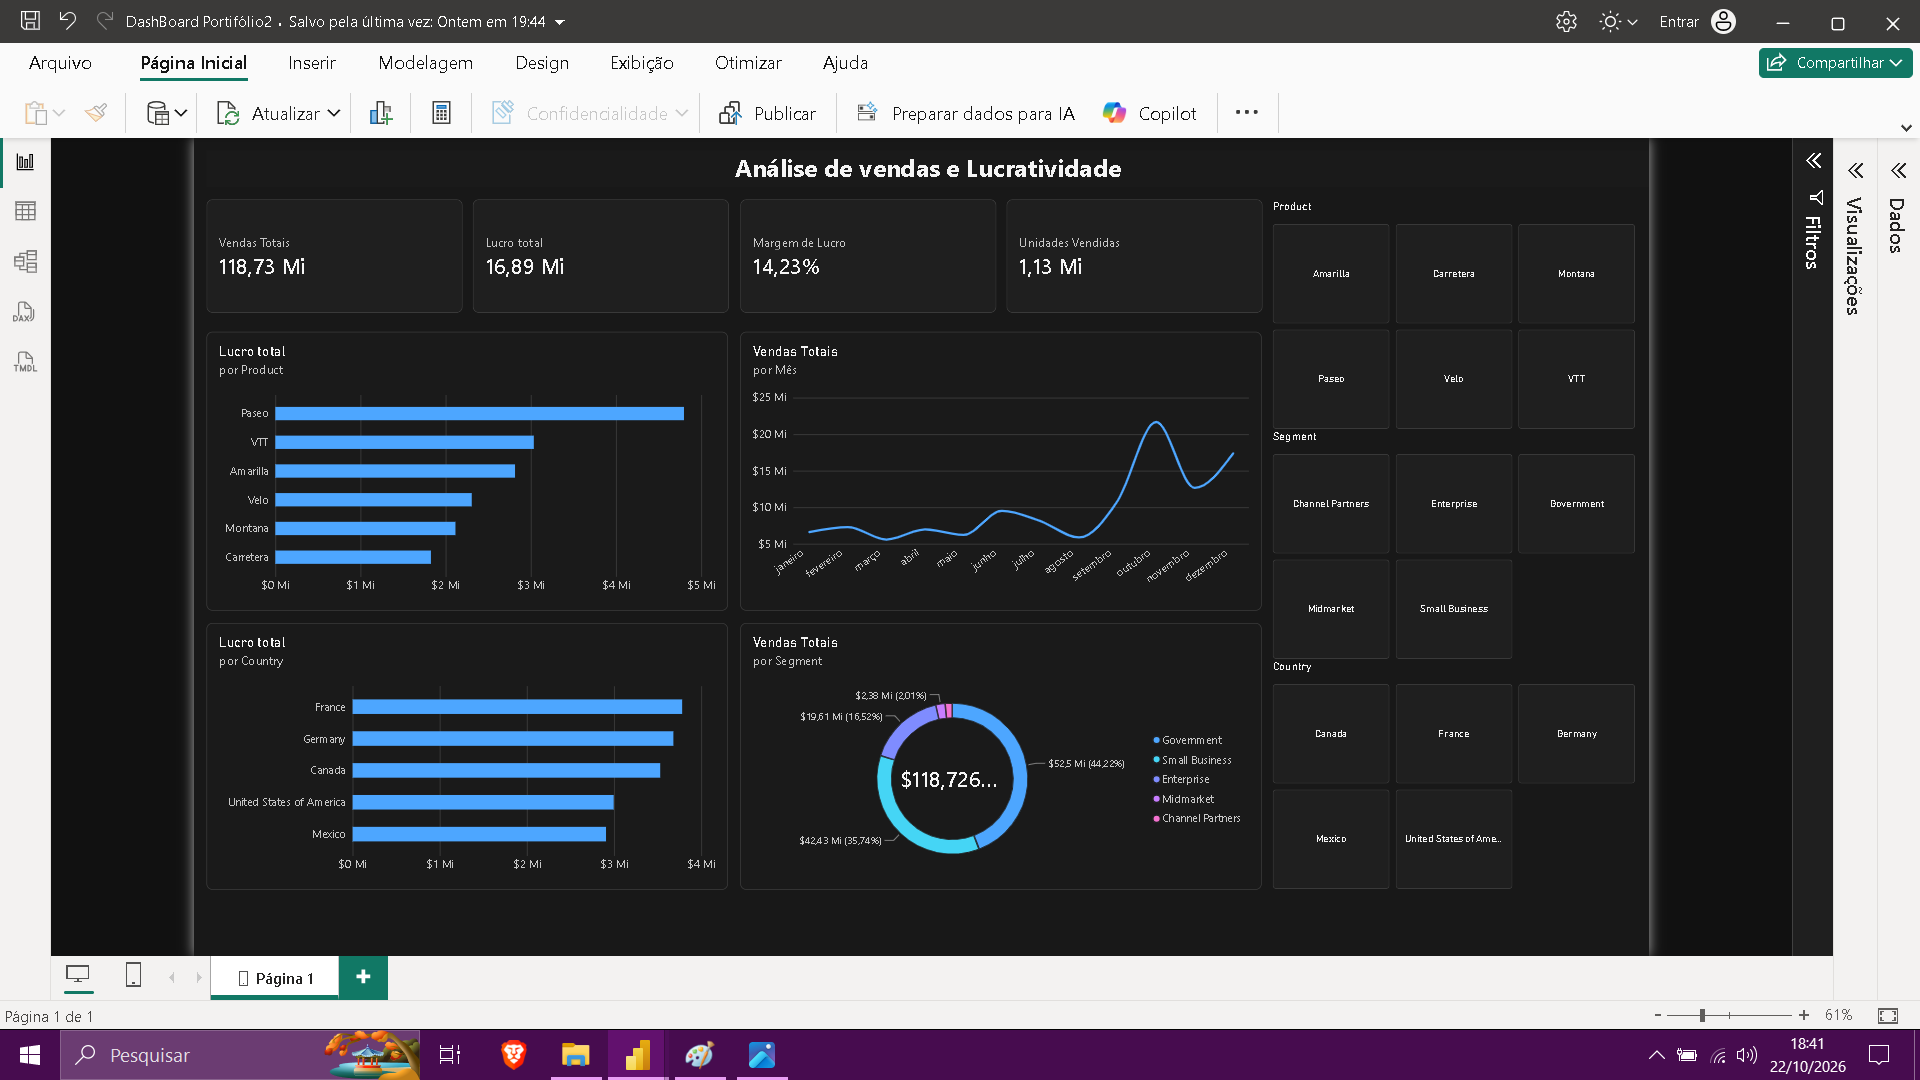

The page's visual inventory and layout, read from the dashboard file:
{"tool":"powerbi","page":{"name":"Página 1","canvas":[1920,1080],"ordinal":0},"visuals":[{"type":"textbox","box":[16,16,1904,48],"z":0},{"type":"cardVisual","fields":{"Data":["financials.Vendas Totais"]},"box":[16,80,338.5,150.3],"z":1000},{"type":"cardVisual","fields":{"Data":["financials.Lucro total"]},"box":[368,80,338.5,150.3],"z":2000},{"type":"cardVisual","fields":{"Data":["financials.Margem de Lucro"]},"box":[720,80,338.5,150.3],"z":3000},{"type":"cardVisual","fields":{"Data":["financials.Unidades Vendidas"]},"box":[1072,80,338.5,150.3],"z":4000},{"type":"lineChart","fields":{"Category":["financials.Date.Variação.Hierarquia de datas.Ano","financials.Date.Variação.Hierarquia de datas.Trimestre","financials.Date.Variação.Hierarquia de datas.Mês","financials.Date.Variação.Hierarquia de datas.Dia"],"Y":["financials.Vendas Totais"]},"box":[720,256,688,368],"z":5000},{"type":"clusteredBarChart","fields":{"Category":["financials.Product"],"Y":["financials.Lucro total"]},"box":[16,256,688,368],"z":6000},{"type":"donutChart","fields":{"Category":["financials.Segment"],"Y":["financials.Vendas Totais"]},"box":[720,640,688,352],"z":7000},{"type":"clusteredBarChart","fields":{"Category":["financials.Country"],"Y":["financials.Lucro total"]},"box":[16,640,688,352],"z":8000},{"type":"advancedSlicerVisual","fields":{"Values":["financials.Country"]},"box":[1424,688,480,304],"z":9000},{"type":"advancedSlicerVisual","fields":{"Values":["financials.Segment"]},"box":[1424,384,480,304],"z":10000},{"type":"advancedSlicerVisual","fields":{"Values":["financials.Product"]},"box":[1424,80,480,304],"z":11000}]}

Visuals, with their boxes on the page's 1920x1080 design canvas (x1, y1, x2, y2). These are canvas units, not pixel positions in the 1920x1080 screenshot, which may show the page scaled, cropped or inside an application window:
textbox: BBox(16, 16, 1920, 64)
cardVisual - financials.Vendas Totais: BBox(16, 80, 354, 230)
cardVisual - financials.Lucro total: BBox(368, 80, 706, 230)
cardVisual - financials.Margem de Lucro: BBox(720, 80, 1058, 230)
cardVisual - financials.Unidades Vendidas: BBox(1072, 80, 1410, 230)
lineChart - financials.Date.Variação.Hierarquia de datas.Ano x financials.Date.Variação.Hierarquia de datas.Trimestre: BBox(720, 256, 1408, 624)
clusteredBarChart - financials.Product x financials.Lucro total: BBox(16, 256, 704, 624)
donutChart - financials.Segment x financials.Vendas Totais: BBox(720, 640, 1408, 992)
clusteredBarChart - financials.Country x financials.Lucro total: BBox(16, 640, 704, 992)
advancedSlicerVisual - financials.Country: BBox(1424, 688, 1904, 992)
advancedSlicerVisual - financials.Segment: BBox(1424, 384, 1904, 688)
advancedSlicerVisual - financials.Product: BBox(1424, 80, 1904, 384)
